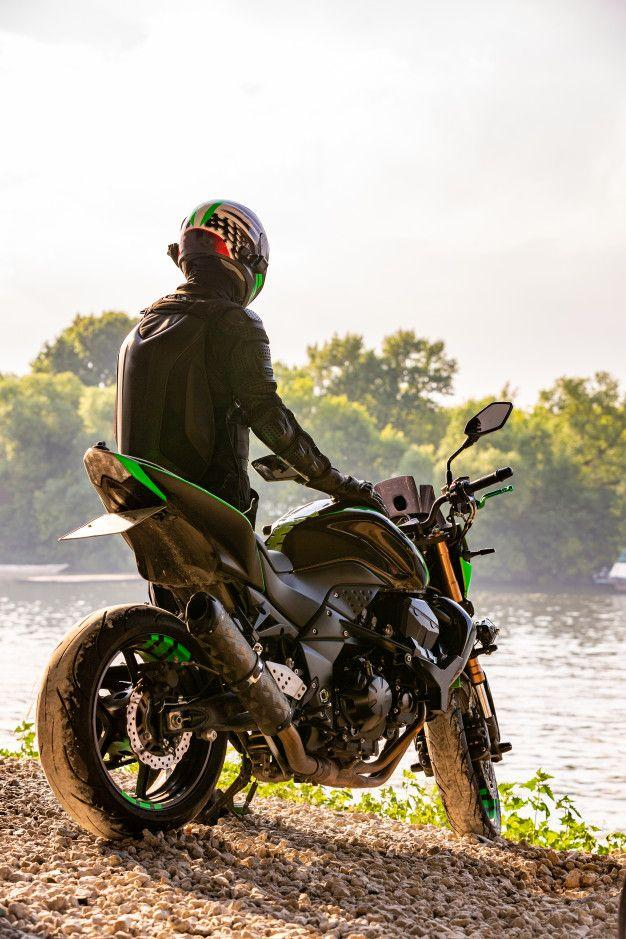Helmet: (181, 200, 268, 305)
